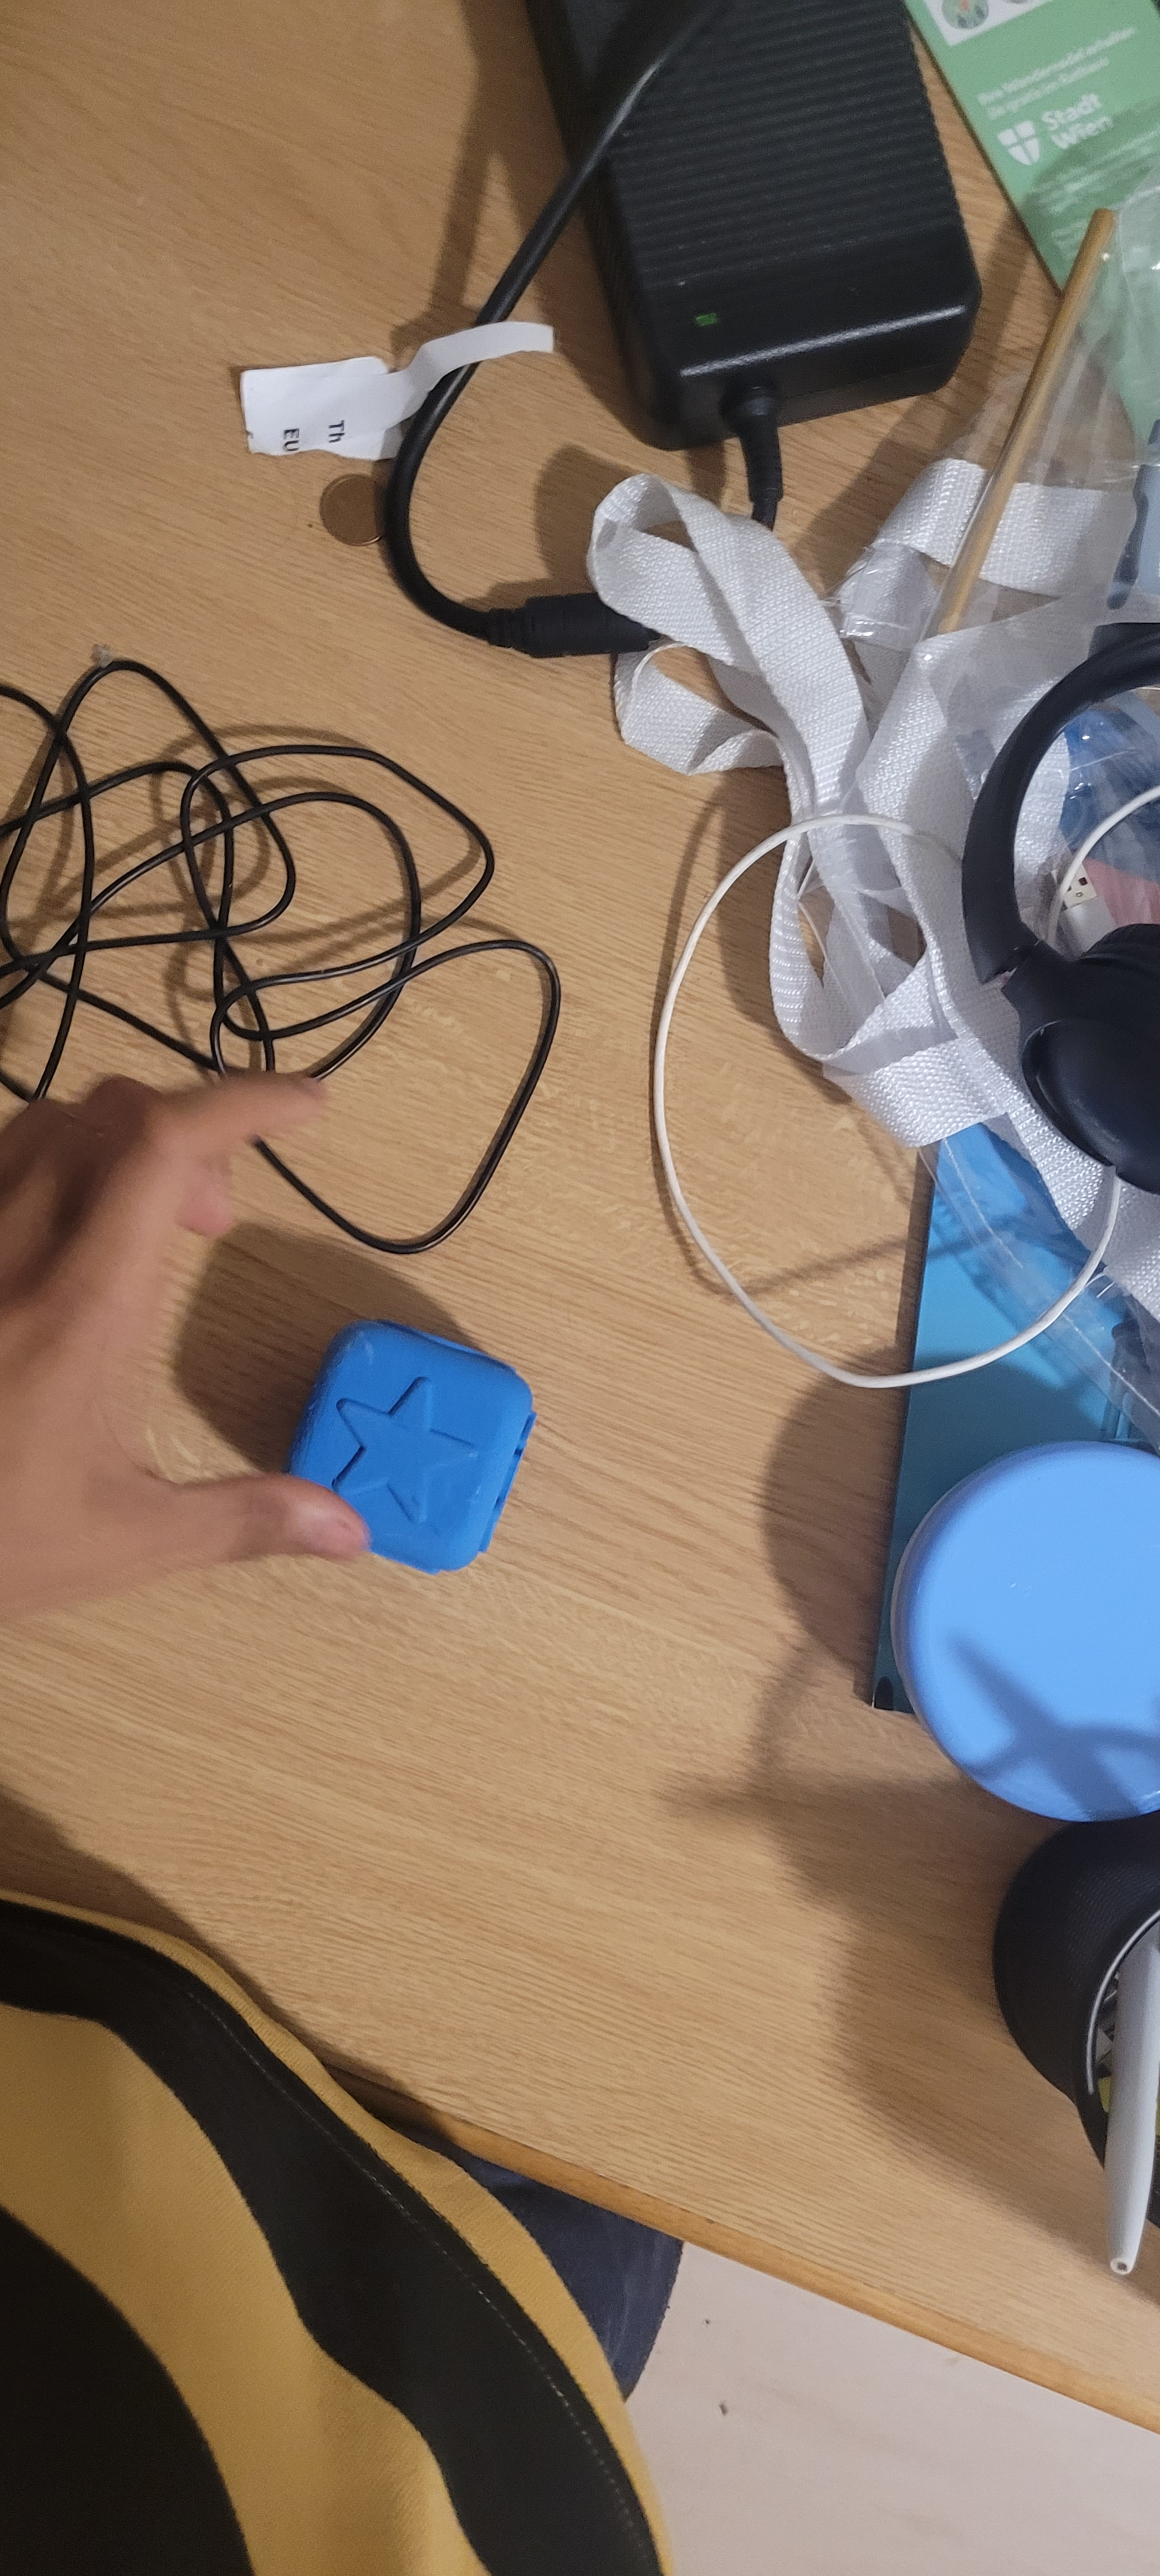Star: (324, 1298, 532, 1536)
